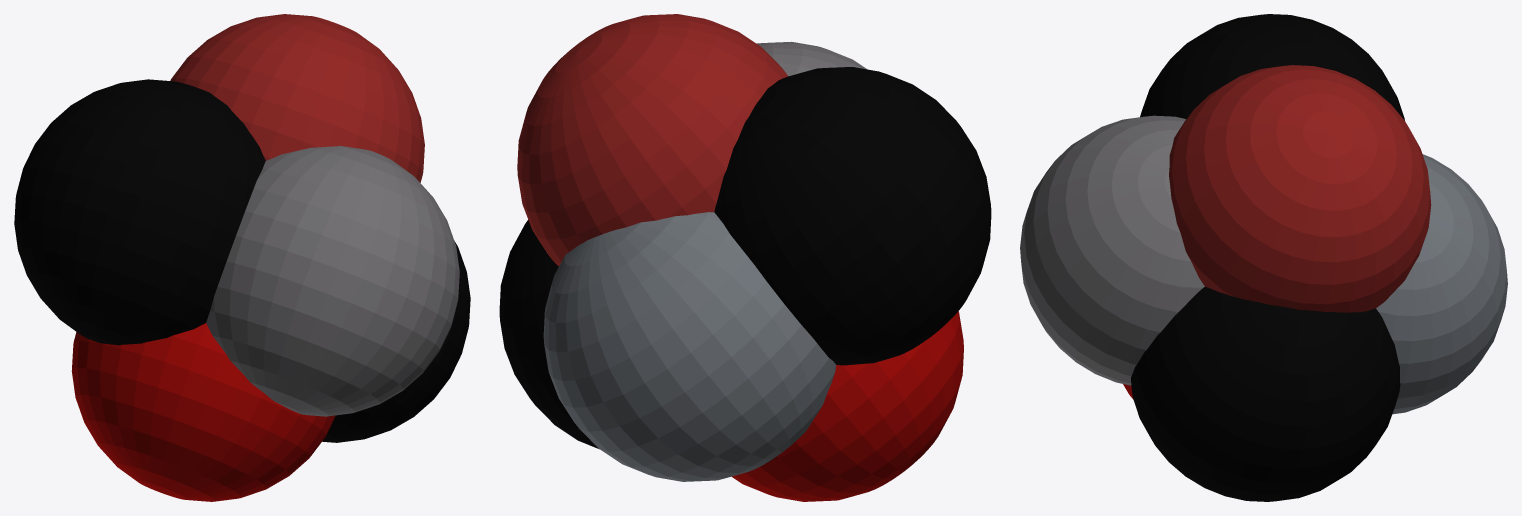
File: spreadbomb.fbx
3 views of the same model, side by side, from view 1: azimuth 30°, elevation 25°; view 2: azimuth 150°, elevation 25°; view 3: azimuth 270°, elevation 25° (orthographic). The views are drawn at different scales.
Parts seen in each view (by area): view 1: Sphere.006, Sphere.002, Sphere.001, Sphere.003, Sphere.005; view 2: Sphere.002, Sphere.004, Sphere.003, Sphere.001, Sphere.005, Sphere.006; view 3: Sphere.003, Sphere.005, Sphere.006, Sphere.004, Sphere.002.
Part boxes in pixels (box(x1,y1,x2,y2)): Sphere.006: box(206, 146, 459, 416); Sphere.002: box(14, 79, 265, 345); Sphere.001: box(71, 323, 335, 501); Sphere.003: box(170, 14, 424, 182); Sphere.005: box(322, 241, 470, 442); Sphere.002: box(714, 67, 991, 365); Sphere.004: box(543, 212, 836, 481); Sphere.003: box(517, 14, 788, 266); Sphere.001: box(732, 311, 963, 501); Sphere.005: box(499, 220, 599, 449); Sphere.006: box(756, 41, 867, 76); Sphere.003: box(1169, 65, 1431, 312); Sphere.005: box(1131, 286, 1400, 501); Sphere.006: box(1020, 115, 1204, 385); Sphere.004: box(1376, 154, 1507, 414); Sphere.002: box(1140, 14, 1404, 120).
Bounding box in the file's own units: 350 × 333 × 357.
